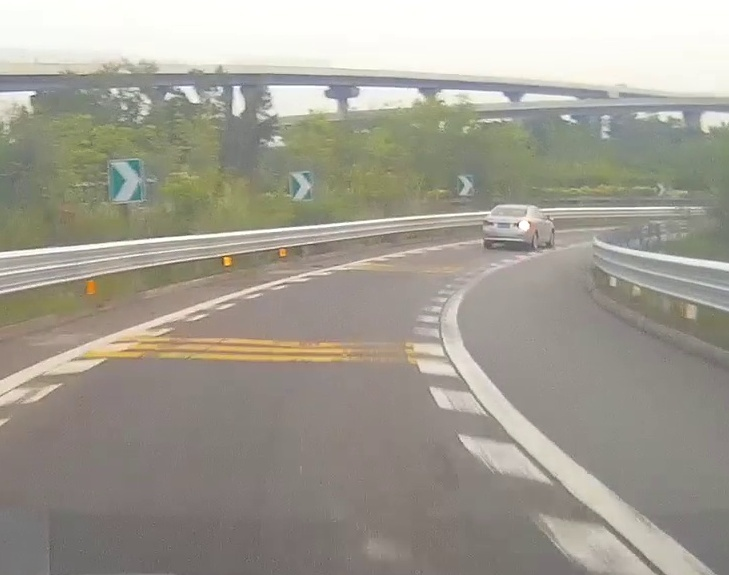L_light: (483, 220, 493, 225)
R_light: (514, 221, 530, 230)
T_light: (502, 213, 511, 216)
day-right: (482, 204, 532, 251)
